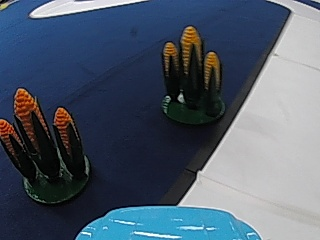corn: (3, 84, 93, 201), (158, 23, 227, 126)
